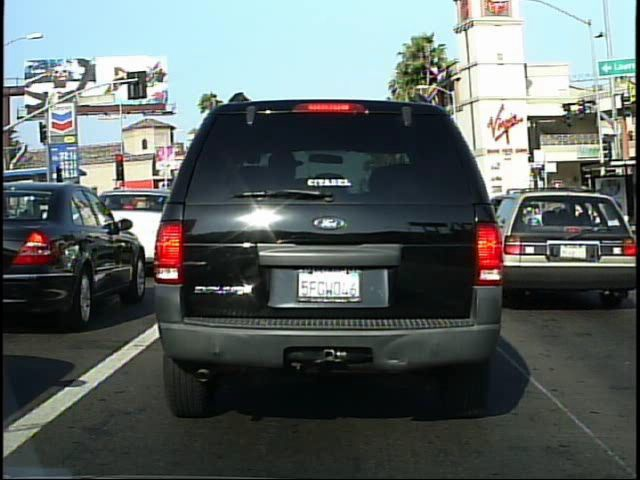person: (589, 184, 618, 241), (564, 183, 585, 238)
